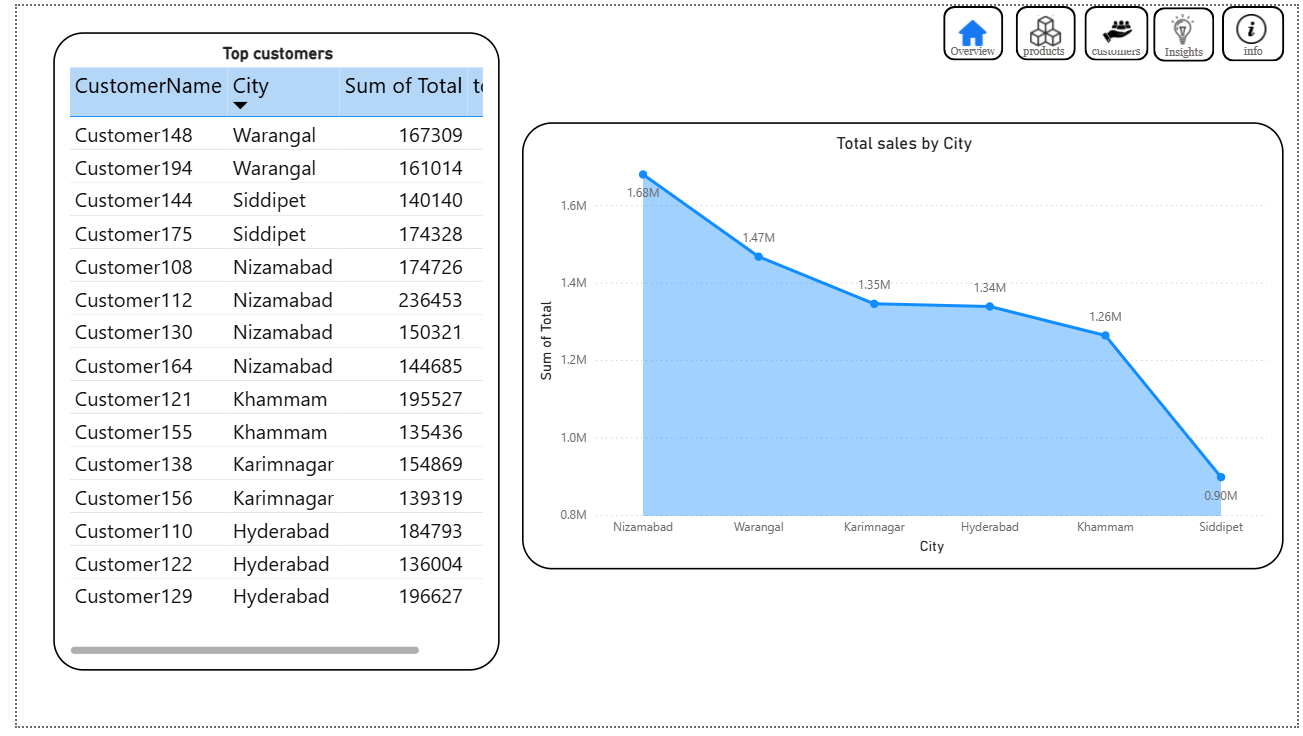

What the dashboard file says about the page in this screenshot:
{"tool":"powerbi","page":{"name":"customers","canvas":[1280,720],"ordinal":3},"visuals":[{"type":"actionButton","title":"home button","box":[926.7,0,60,54.4],"z":0},{"type":"actionButton","title":"products button","box":[998.9,0,60,54.4],"z":1000},{"type":"actionButton","title":"customers button","box":[1068,0,64,54.7],"z":2000},{"type":"actionButton","title":"insights button","box":[1136.7,1.1,61.1,54.4],"z":3000},{"type":"actionButton","title":"info button","box":[1205.6,0,62.2,55.6],"z":4000},{"type":"tableEx","title":"Top customers","fields":{"Values":["Customers.CustomerName","Customers.City","Sum(Sales.Total)","Sales.total qty"]},"box":[36.2,26.2,446.2,638.8],"z":5000},{"type":"areaChart","title":" Total sales by City","fields":{"Category":["Customers.City"],"Y":["Sum(Sales.Total)"]},"box":[505,116.2,761.2,447.5],"z":6000}]}

Visuals, with their boxes in screenshot pixels (x1, y1, x2, y2), scaled from the page's 1280x720 canvas onto the 1303x736 screenshot:
"home button" actionButton: (x1=943, y1=0, x2=1004, y2=56)
"products button" actionButton: (x1=1017, y1=0, x2=1078, y2=56)
"customers button" actionButton: (x1=1087, y1=0, x2=1152, y2=56)
"insights button" actionButton: (x1=1157, y1=1, x2=1219, y2=57)
"info button" actionButton: (x1=1227, y1=0, x2=1291, y2=57)
"Top customers" tableEx: (x1=37, y1=27, x2=491, y2=680)
" Total sales by City" areaChart: (x1=514, y1=119, x2=1289, y2=576)
